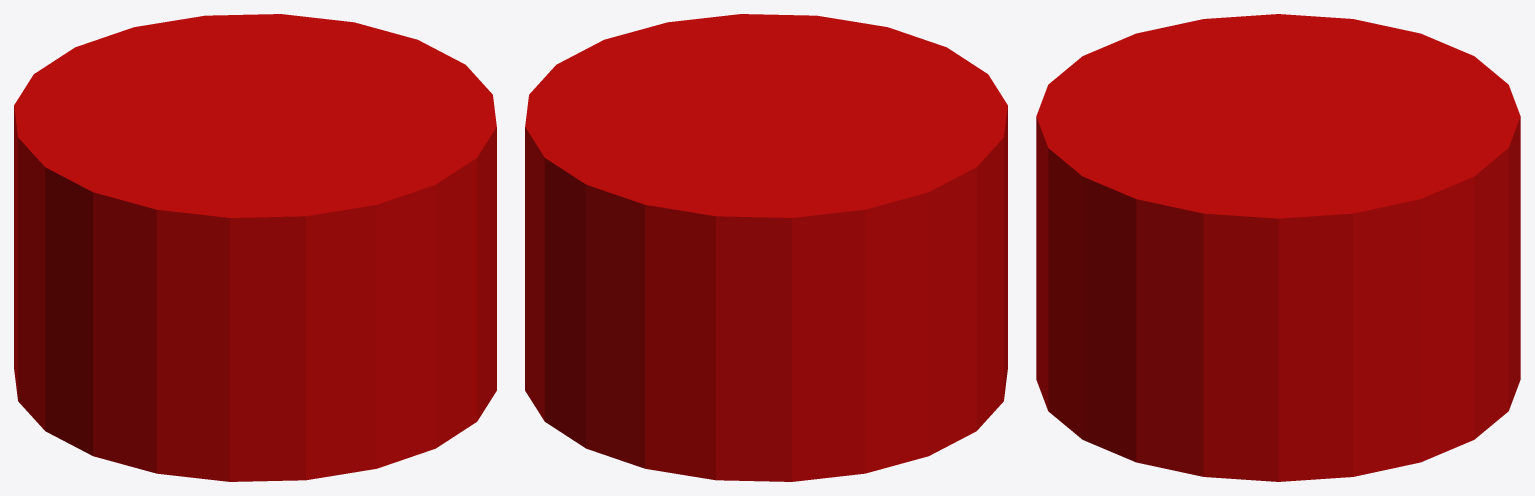
The model's file is wheel.dae.
The picture shows the model from 3 angles, left to right: view 1: azimuth 30°, elevation 25°; view 2: azimuth 150°, elevation 25°; view 3: azimuth 270°, elevation 25°; orthographic projection.
Parts seen in each view (by area): view 1: pCylinder1; view 2: pCylinder1; view 3: pCylinder1.
Part boxes in pixels (x1,y1,x2,y2): pCylinder1: [14, 14, 496, 481]; pCylinder1: [525, 14, 1007, 481]; pCylinder1: [1036, 14, 1520, 481].
Size of the model in its own units: 1 by 0.6 by 1.
